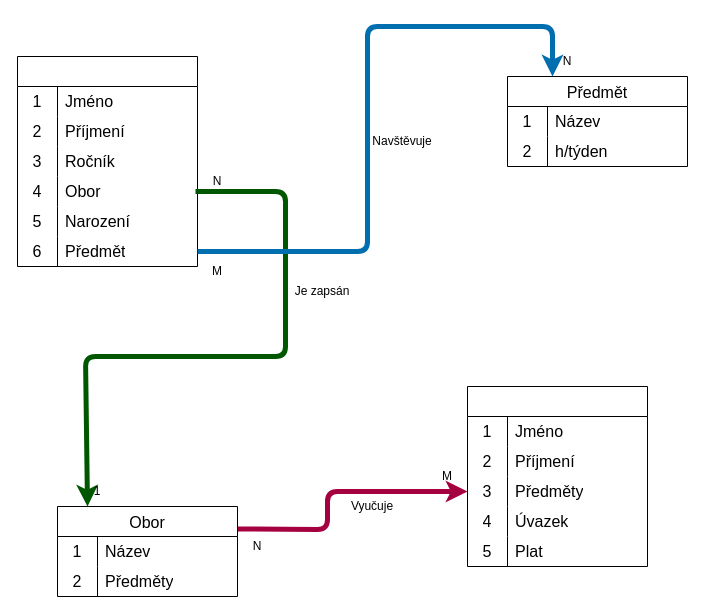
Image size: 705x614. Some labels were removed from this diagram. Here are the shapes that lost their labels. From the top down, the box of each, then its label:
(16, 56, 198, 266): Student
(466, 386, 648, 566): Učitel
